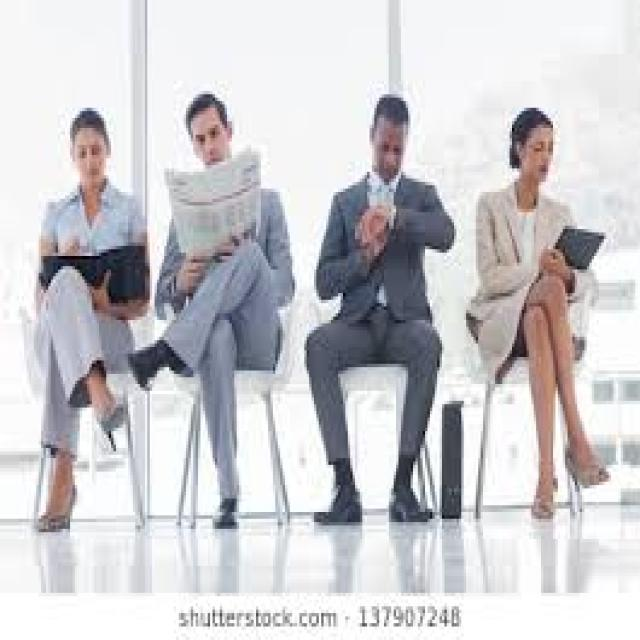nonfall: (474, 84, 616, 514), (157, 83, 290, 522), (311, 75, 436, 532), (16, 96, 136, 507)
